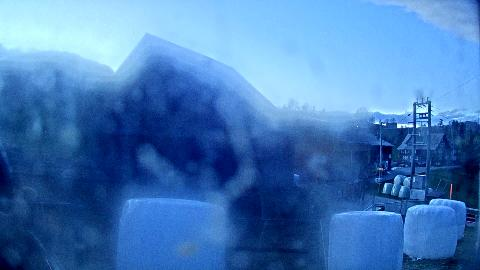car: (418, 162, 426, 166)
sheep: (0, 184, 40, 244)
